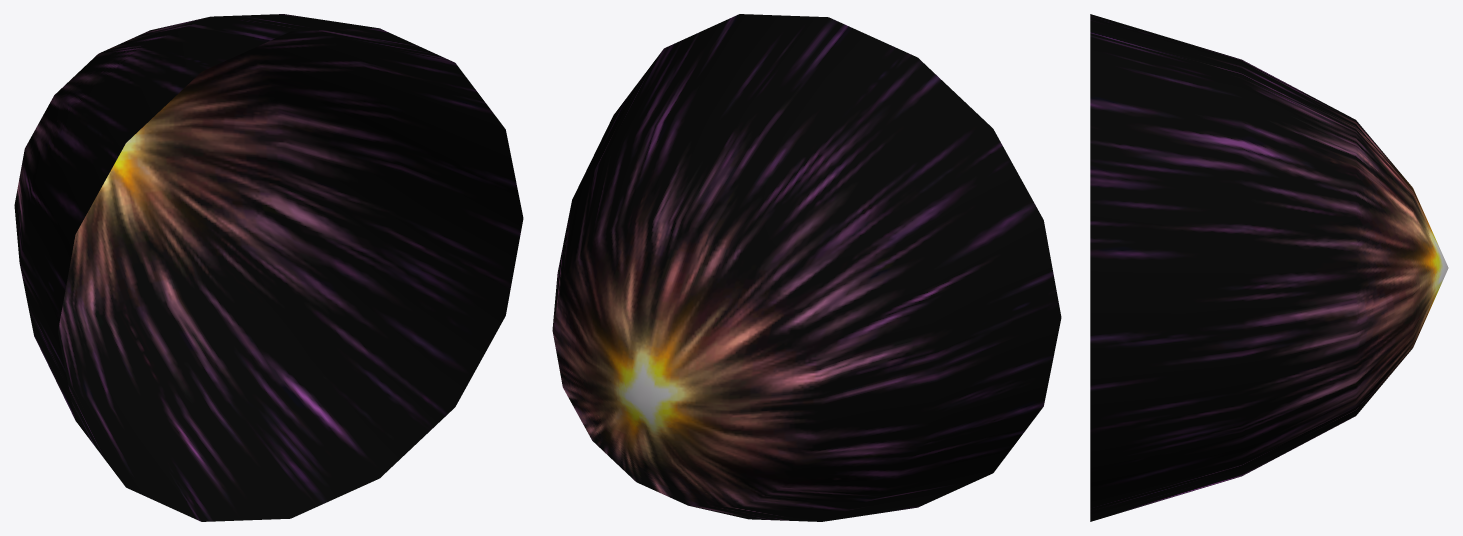
The model's file is rushwave_2008.FBX.
3 views of the same model, side by side, from view 1: azimuth 30°, elevation 25°; view 2: azimuth 150°, elevation 25°; view 3: azimuth 270°, elevation 25° (orthographic). The views are drawn at different scales.
Visible parts, largest first — view 1: rushwave_2008; view 2: rushwave_2008; view 3: rushwave_2008.
Boxes of the visible parts, box(x1,y1,x2,y2) form: rushwave_2008: box(14, 14, 523, 521); rushwave_2008: box(552, 14, 1061, 521); rushwave_2008: box(1090, 14, 1448, 521).
Size of the model in its own units: 442 by 442 by 312.
1 material, 1 textured.
